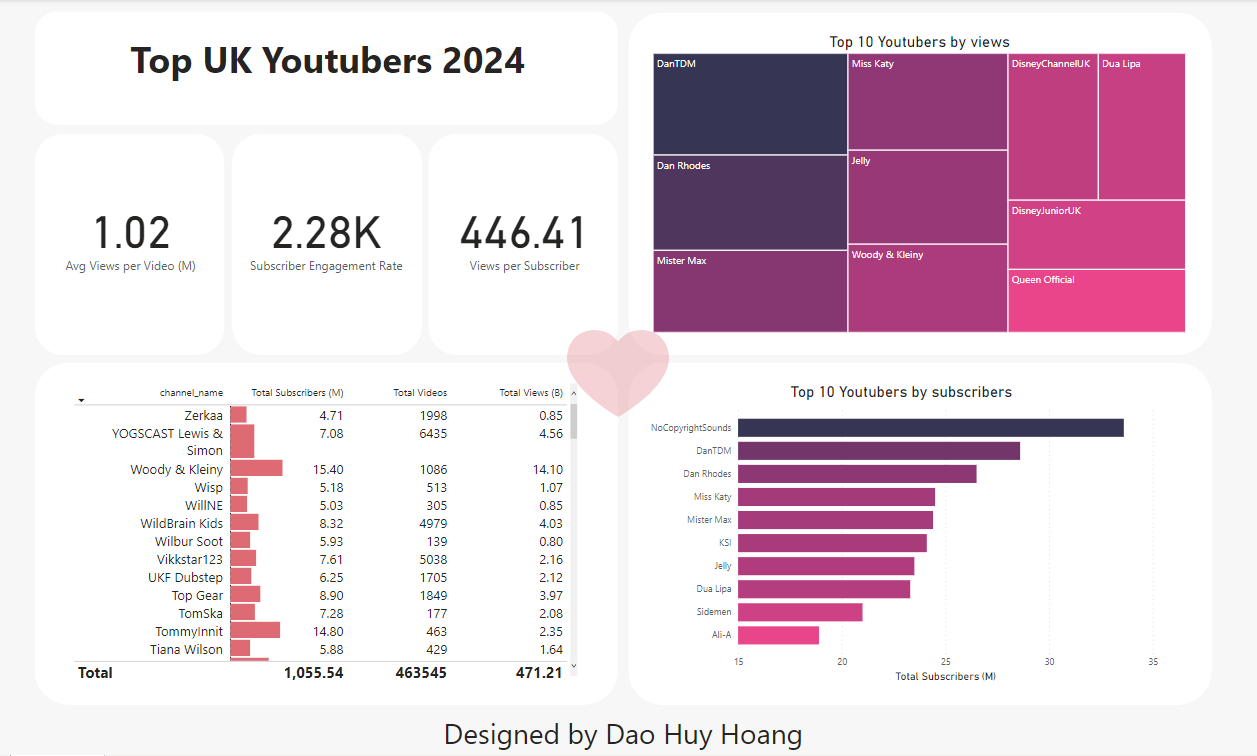

This screenshot's page, from the dashboard's own definition file:
{"tool":"powerbi","page":{"name":"Page 1","canvas":[1800,1100],"ordinal":0},"visuals":[{"type":"shape","box":[855,36.7,778.3,456.7],"z":0},{"type":"shape","box":[63.3,35,778.3,151.7],"z":1000},{"type":"shape","box":[588.3,198.3,253.3,295],"z":2000},{"type":"shape","box":[326.7,198.3,253.3,295],"z":3000},{"type":"shape","box":[63.3,198.3,253.3,295],"z":4000},{"type":"shape","box":[855,503.3,778.3,456.7],"z":5000},{"type":"shape","box":[63.3,503.3,778.3,456.7],"z":6000},{"type":"tableEx","fields":{"Values":["view_uk_youtubers_2024.channel_name","view_uk_youtubers_2024.Total Subscribers (M)","view_uk_youtubers_2024.Total Video","view_uk_youtubers_2024.Total Views (B)"]},"box":[110,526.7,681.7,408.3],"z":7000},{"type":"treemap","title":"Top 10 Youtubers by views","fields":{"Group":["view_uk_youtubers_2024.channel_name"],"Values":["view_uk_youtubers_2024.Total Views (B)"]},"box":[883.3,63.3,720,405],"z":8000},{"type":"textbox","box":[91.7,60,725,113.3],"z":9000},{"type":"card","fields":{"Values":["view_uk_youtubers_2024.Avg Views per Video (M)"]},"box":[78.3,223.3,226.7,216.7],"z":10000},{"type":"card","fields":{"Values":["view_uk_youtubers_2024.Subscriber Engagement Rate"]},"box":[338.3,223.3,228.3,216.7],"z":11000},{"type":"card","fields":{"Values":["view_uk_youtubers_2024.Views per Subscriber"]},"box":[603.3,223.3,226.7,216.7],"z":12000},{"type":"barChart","title":"Top 10 Youtubers by subscribers","fields":{"Category":["view_uk_youtubers_2024.channel_name"],"Y":["view_uk_youtubers_2024.Total Subscribers (M)"]},"box":[871.7,530,695,405],"z":13000},{"type":"shape","box":[774,460,136,116],"z":13001},{"type":"textbox","box":[63.3,966.7,1570,61.7],"z":13002}]}

Visuals, with their boxes in screenshot pixels (x1, y1, x2, y2), scaled from the page's 1800x1100 canvas onto the 1257x756 screenshot:
shape: bbox(597, 25, 1141, 339)
shape: bbox(44, 24, 588, 128)
shape: bbox(411, 136, 588, 339)
shape: bbox(228, 136, 405, 339)
shape: bbox(44, 136, 221, 339)
shape: bbox(597, 346, 1141, 660)
shape: bbox(44, 346, 588, 660)
tableEx - view_uk_youtubers_2024.channel_name x view_uk_youtubers_2024.Total Subscribers (M): bbox(77, 362, 553, 643)
"Top 10 Youtubers by views" treemap: bbox(617, 44, 1120, 322)
textbox: bbox(64, 41, 570, 119)
card - view_uk_youtubers_2024.Avg Views per Video (M): bbox(55, 153, 213, 302)
card - view_uk_youtubers_2024.Subscriber Engagement Rate: bbox(236, 153, 396, 302)
card - view_uk_youtubers_2024.Views per Subscriber: bbox(421, 153, 580, 302)
"Top 10 Youtubers by subscribers" barChart: bbox(609, 364, 1094, 643)
shape: bbox(541, 316, 635, 396)
textbox: bbox(44, 664, 1141, 707)
